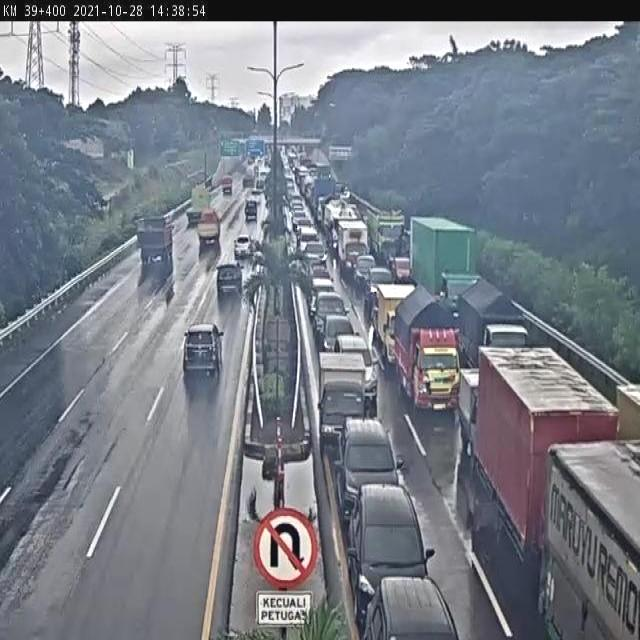Car: (348, 480, 436, 600), (358, 575, 461, 640), (336, 420, 404, 510), (335, 334, 379, 411), (180, 319, 228, 376), (321, 312, 360, 350), (366, 267, 392, 312), (196, 211, 220, 250), (353, 253, 379, 289), (216, 263, 244, 292), (233, 232, 253, 261), (391, 254, 412, 277), (246, 198, 260, 224)
Truck: (478, 345, 619, 558), (541, 444, 640, 640), (395, 286, 458, 421), (410, 217, 480, 302), (458, 278, 532, 354), (316, 350, 369, 451), (375, 284, 420, 354), (137, 211, 176, 273), (366, 203, 406, 256), (337, 218, 370, 277)
